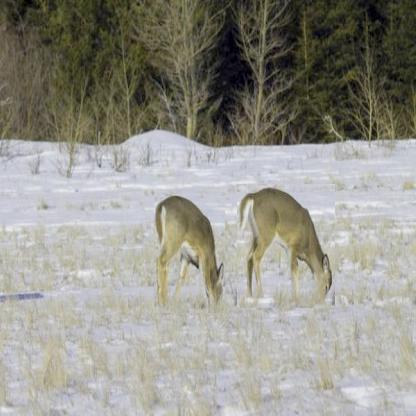Deer: (236, 184, 334, 308), (154, 193, 225, 313)
